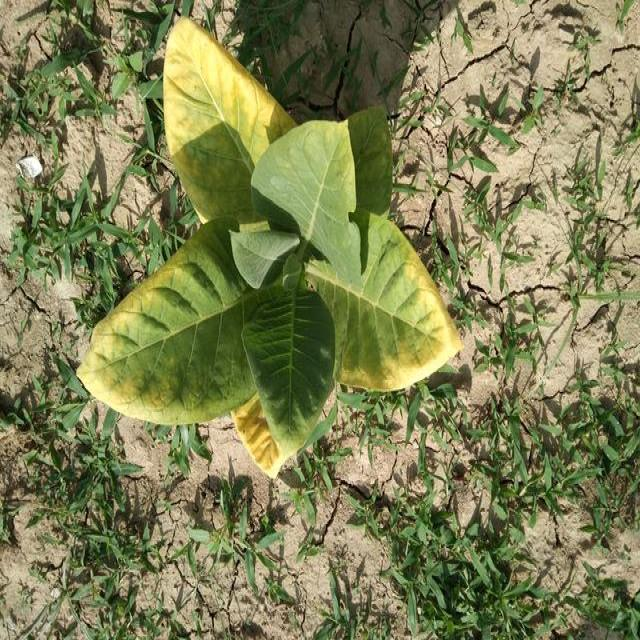crop: (80, 28, 454, 481)
